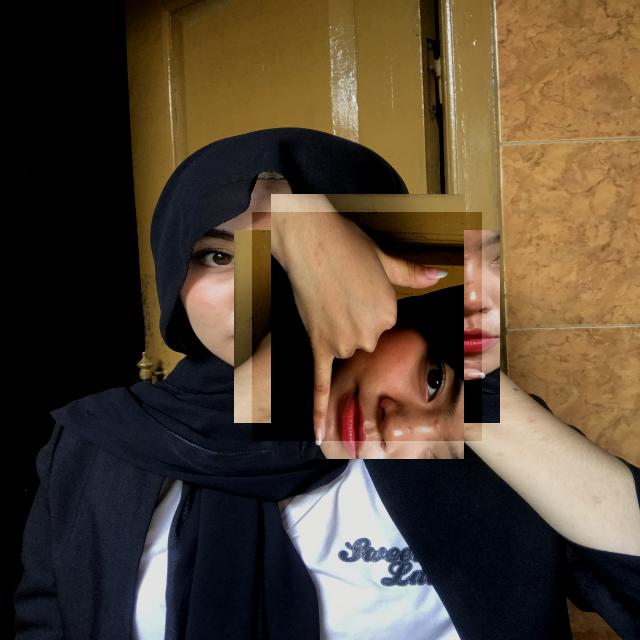telpon: (252, 212, 482, 441)
